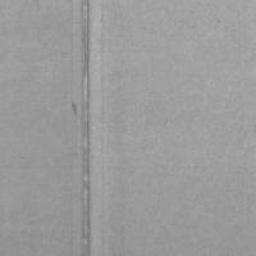Welding line: (81, 0, 90, 256)
